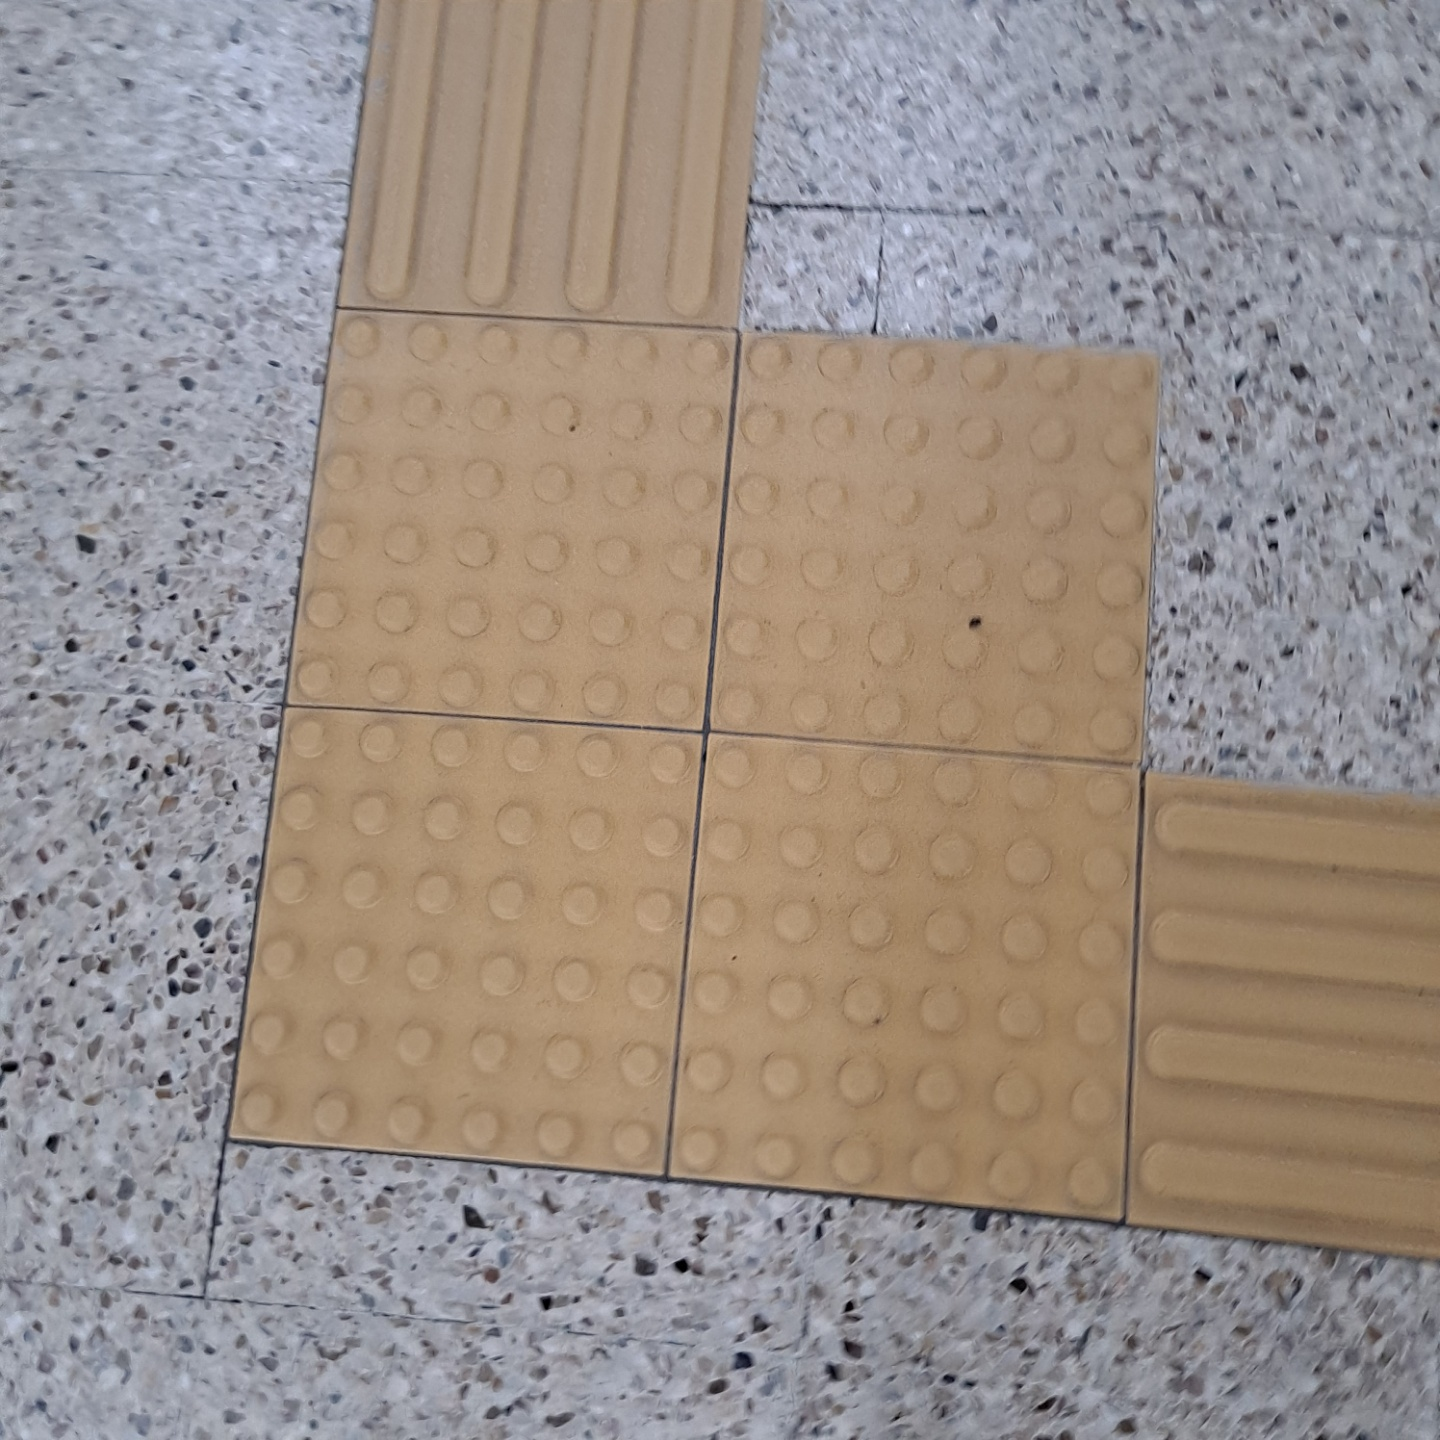guideBlock: (1131, 760, 1440, 1258), (381, 11, 781, 349)
warningBlock: (704, 744, 1146, 1233), (291, 727, 711, 1160), (738, 335, 1143, 762), (323, 316, 712, 728)
